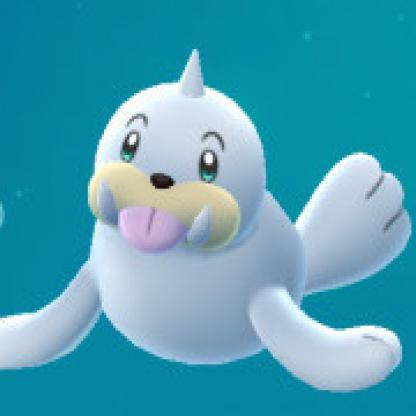Seel: (1, 45, 415, 399)
